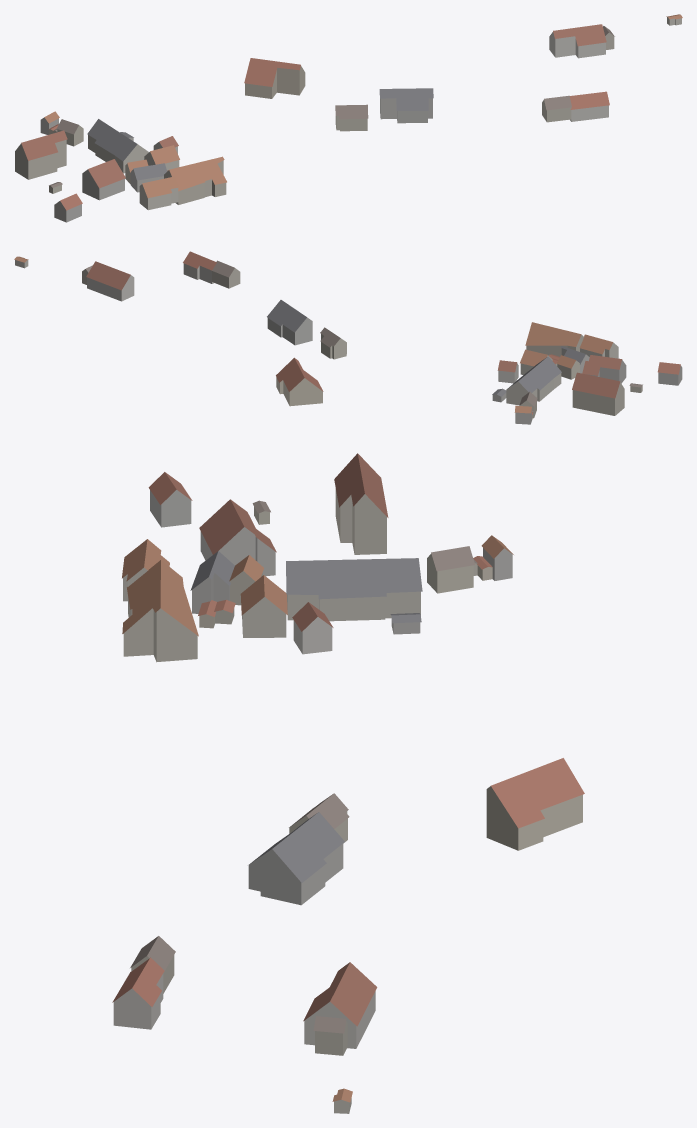
3 views of the same model, one above another, from view 1: azimuth 30°, elevation 25°; view 2: azimuth 150°, elevation 25°; view 3: azimuth 270°, elevation 25° (orthographic). The views are drawn at different scales.
Visible parts, largest first — view 1: buildings; view 2: buildings; view 3: buildings.
Part boxes in pixels (x1,y1,x2,y2): buildings: (15, 14, 682, 222); buildings: (14, 251, 682, 424); buildings: (112, 453, 584, 1113).
Size of the model in its own units: 332 by 25.8 by 109.
